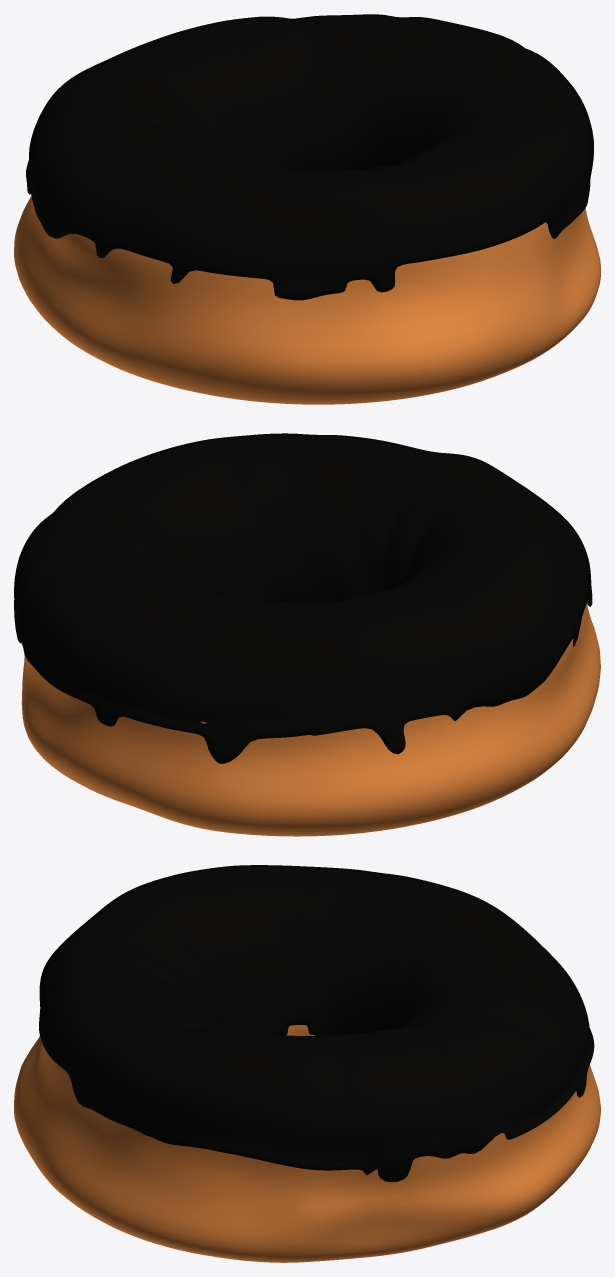
The model's file is donunt22.gltf.
3 views of the same model, one above another, from view 1: azimuth 30°, elevation 25°; view 2: azimuth 150°, elevation 25°; view 3: azimuth 270°, elevation 25° (orthographic). The views are drawn at different scales.
Visible parts, largest first — view 1: Torus.001, Torus.002; view 2: Torus.001, Torus.002; view 3: Torus.001, Torus.002.
Part boxes in pixels (x1,y1,x2,y2): Torus.001: (26, 14, 593, 300); Torus.002: (14, 196, 600, 404); Torus.001: (14, 433, 592, 763); Torus.002: (21, 603, 600, 836); Torus.001: (39, 865, 594, 1182); Torus.002: (14, 1025, 600, 1262).
Bounding box in the file's own units: 1.48 × 0.6037 × 1.52.
